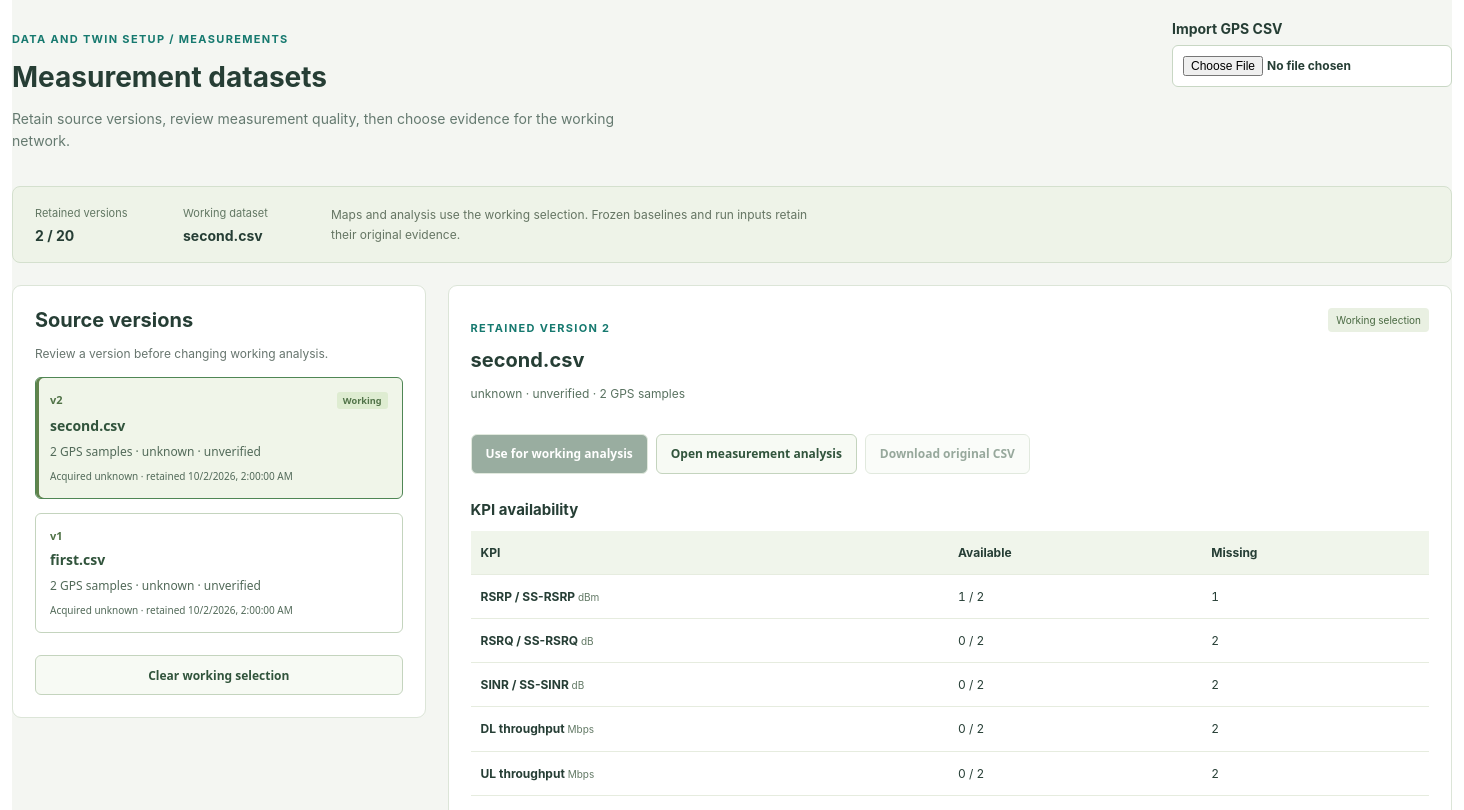
preserves the failed selection draft and locks changes until the database is resolved
Click the button with aria-label "Review v1 first.csv" at (78, 560), box x1=35 y1=513 x2=403 y2=633
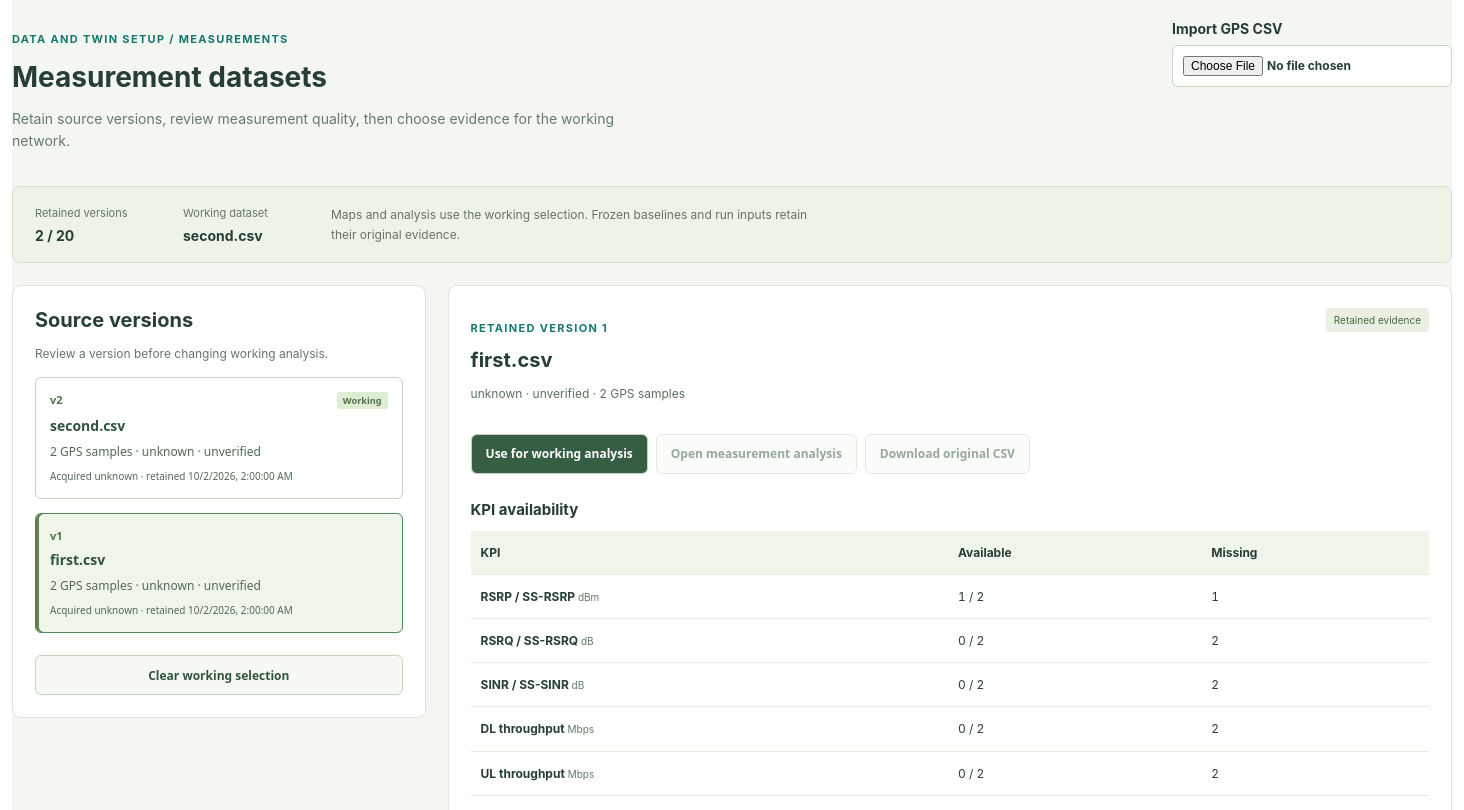
Click the button "Use for working analysis" at (559, 454), box x1=471 y1=434 x2=648 y2=474
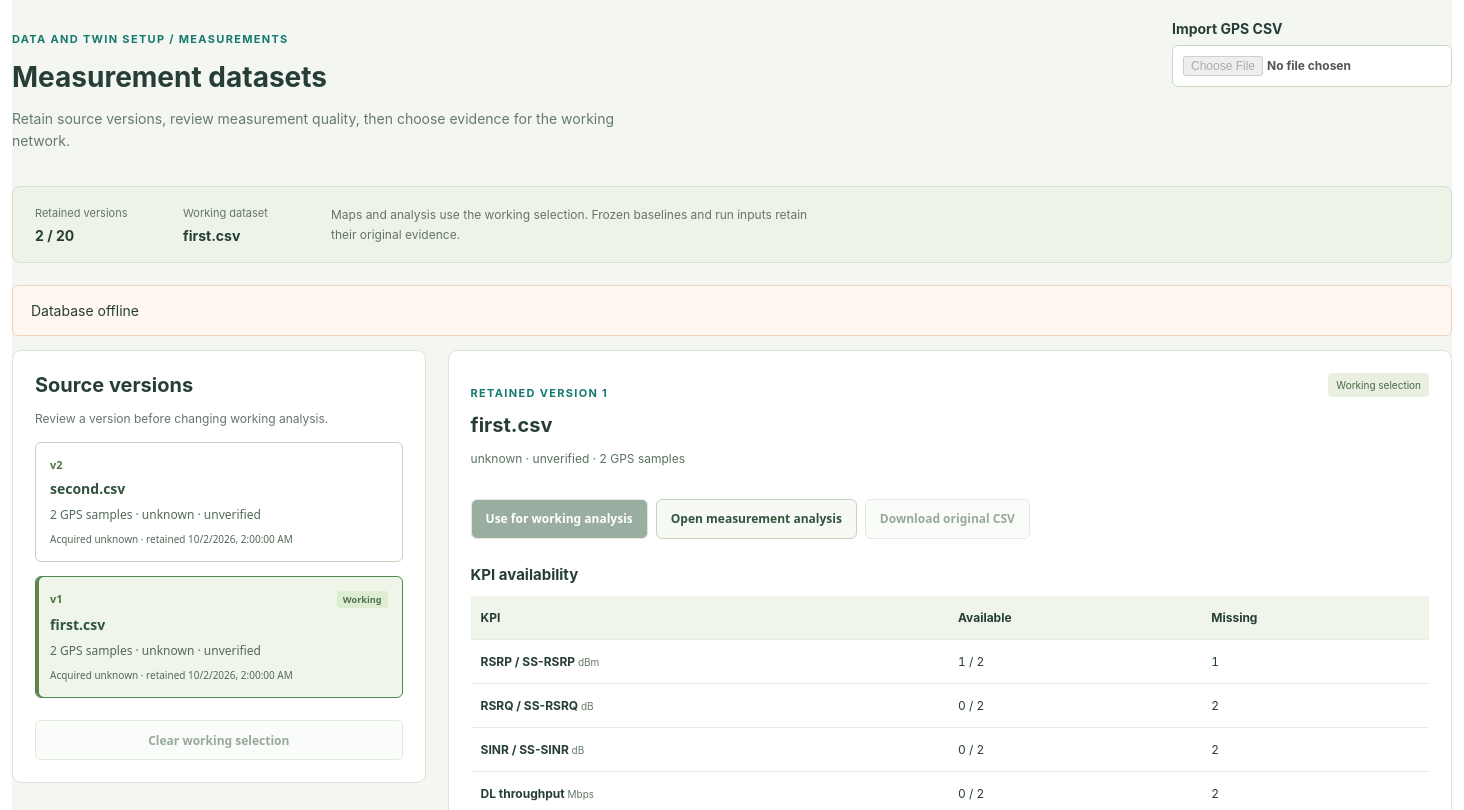
expect the message reads "Database offline": met, box x1=31 y1=302 x2=139 y2=319
expect the button "Use for working analysis" is disabled: met, box x1=471 y1=499 x2=648 y2=539
